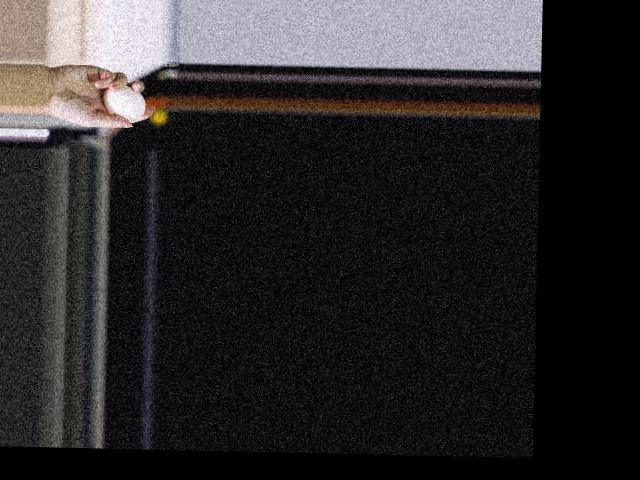egg: (104, 85, 147, 120)
